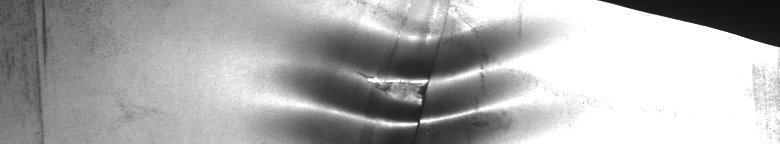ke: (300, 28, 500, 136)
